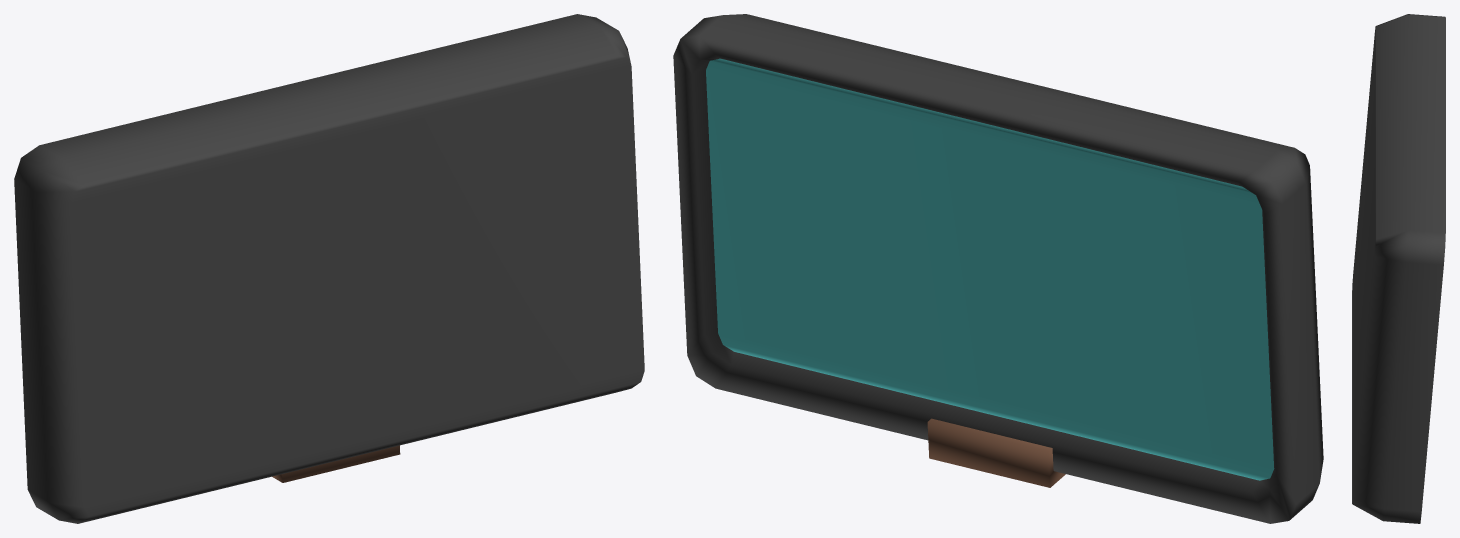
The picture shows the model from 3 angles, left to right: view 1: azimuth 30°, elevation 25°; view 2: azimuth 150°, elevation 25°; view 3: azimuth 270°, elevation 25°; orthographic projection. The views are drawn at different scales.
Visible parts, largest first — view 1: mesh_tv_01; view 2: mesh_tv_01; view 3: mesh_tv_01.
Part boxes in pixels (x1,y1,x2,y2): mesh_tv_01: [14, 14, 644, 523]; mesh_tv_01: [673, 14, 1323, 523]; mesh_tv_01: [1352, 14, 1445, 523].
Size of the model in its own units: 42.76 by 25.68 by 7.17.
